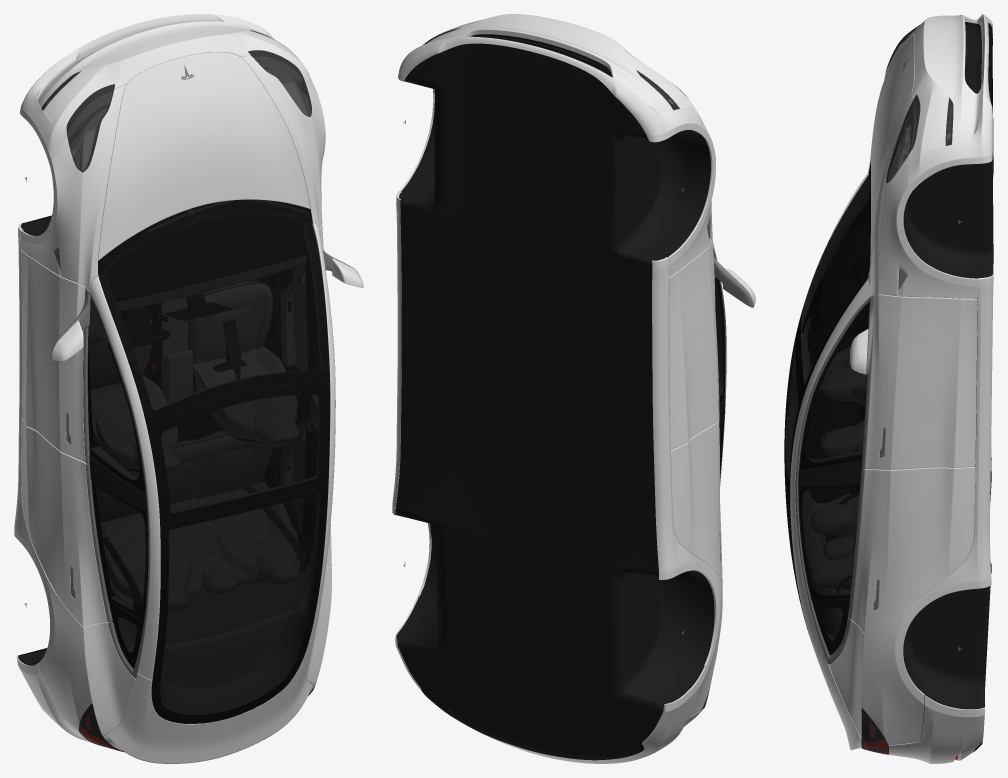
3 views of the same model, side by side, from view 1: azimuth 30°, elevation 25°; view 2: azimuth 150°, elevation 25°; view 3: azimuth 270°, elevation 25° (orthographic). The views are drawn at different scales.
Parts seen in each view (by area): view 1: cahrome_movsteer_1.0.1_0_38; view 2: cahrome_movsteer_1.0.1_0_38; view 3: cahrome_movsteer_1.0.1_0_38.
Part boxes in pixels (x1,y1,x2,y2): cahrome_movsteer_1.0.1_0_38: [14, 14, 363, 763]; cahrome_movsteer_1.0.1_0_38: [392, 14, 755, 763]; cahrome_movsteer_1.0.1_0_38: [784, 14, 993, 763].
Bounding box in the file's own units: 30.13 × 64.7 × 17.5.
Materials: 47 (37 with a texture image).
